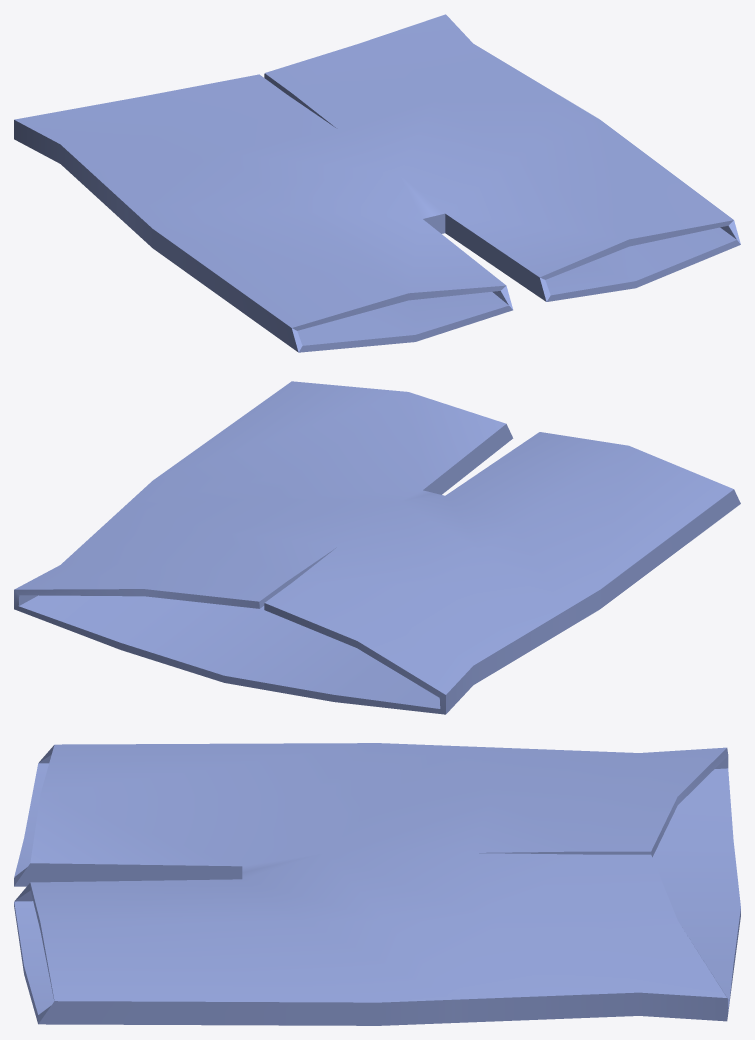
File: shorts.fbx
The picture shows the model from 3 angles, top to bottom: view 1: azimuth 30°, elevation 25°; view 2: azimuth 150°, elevation 25°; view 3: azimuth 270°, elevation 25°; orthographic projection. The views are drawn at different scales.
Visible parts, largest first — view 1: shorts; view 2: shorts; view 3: shorts.
Boxes of the visible parts, <box> form: shorts: <box>14,14,740,352</box>; shorts: <box>14,381,740,714</box>; shorts: <box>14,743,740,1025</box>.
Size of the model in its own units: 65.23 by 7.37 by 77.21.
